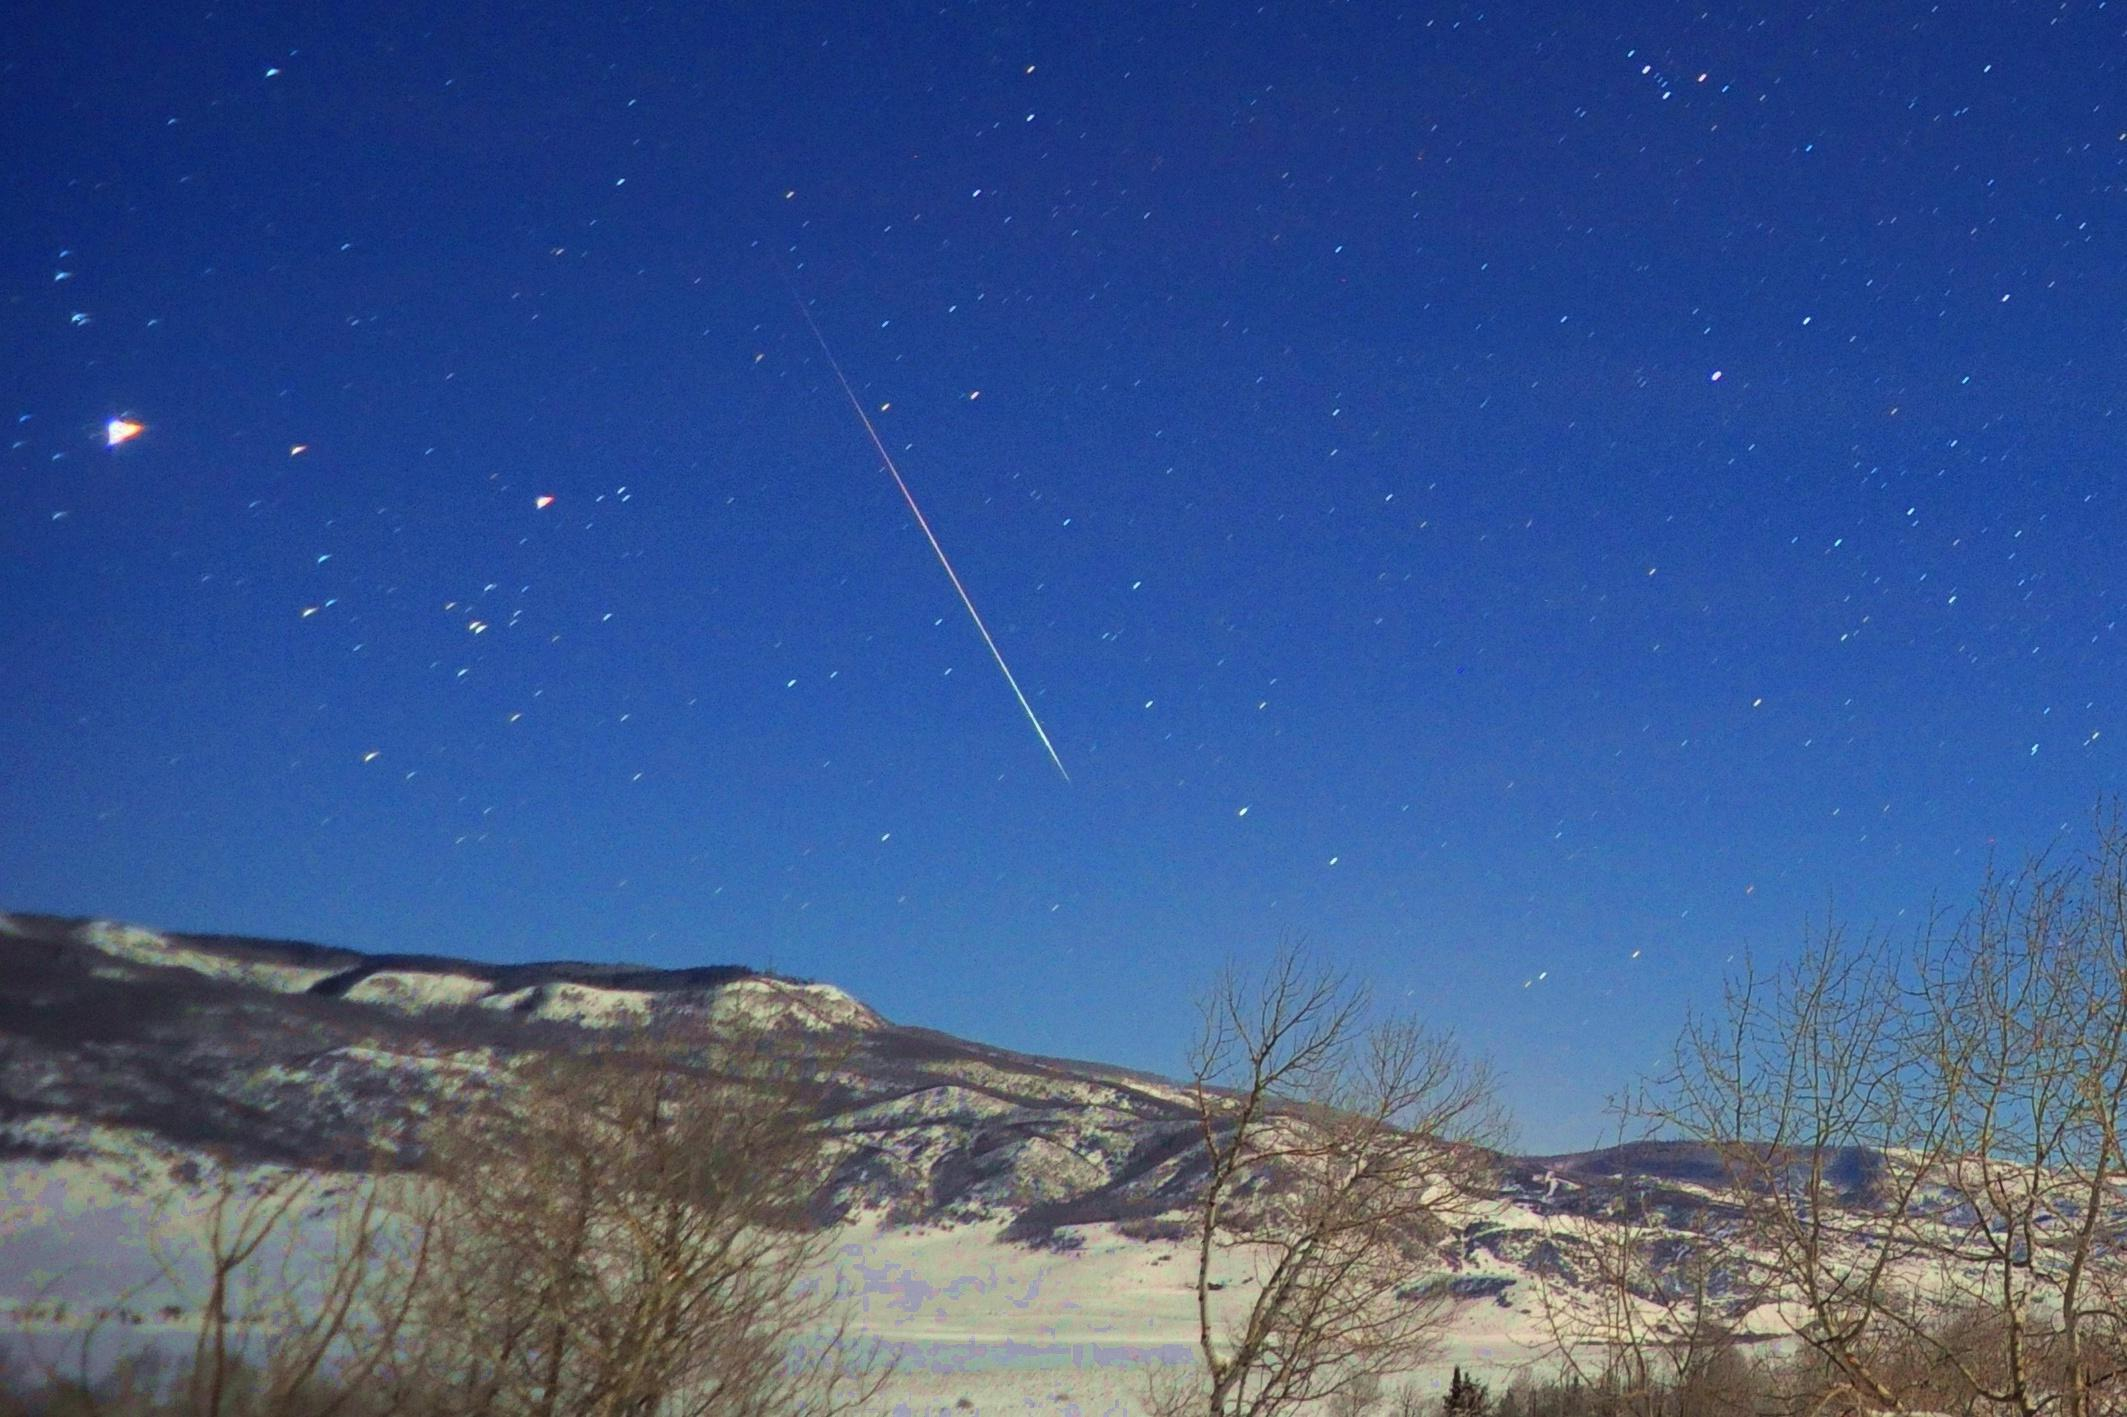meteorite: (773, 327, 1131, 837)
